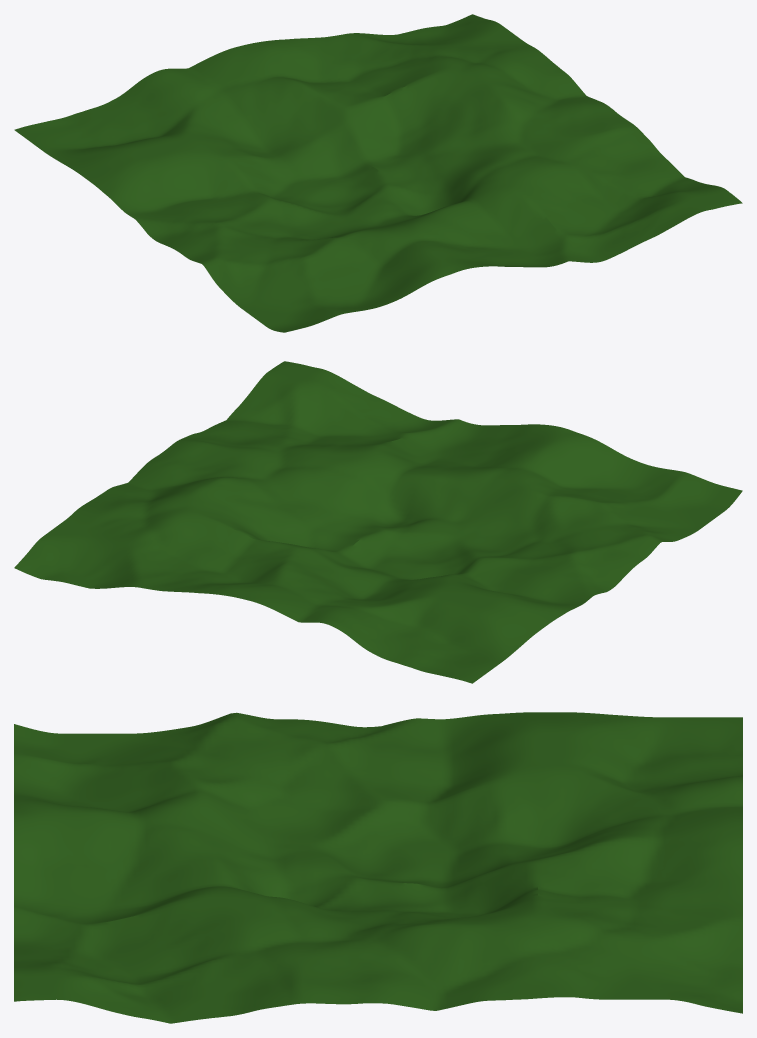
Rendered from Suelo.fbx.
3 views of the same model, one above another, from view 1: azimuth 30°, elevation 25°; view 2: azimuth 150°, elevation 25°; view 3: azimuth 270°, elevation 25° (orthographic). The views are drawn at different scales.
Parts seen in each view (by area): view 1: Suelo; view 2: Suelo; view 3: Suelo.
Part boxes in pixels (<box>): Suelo: <box>14,14,742,332</box>; Suelo: <box>14,361,742,683</box>; Suelo: <box>14,712,742,1023</box>.
Size of the model in its own units: 41823 by 4341 by 42728.
